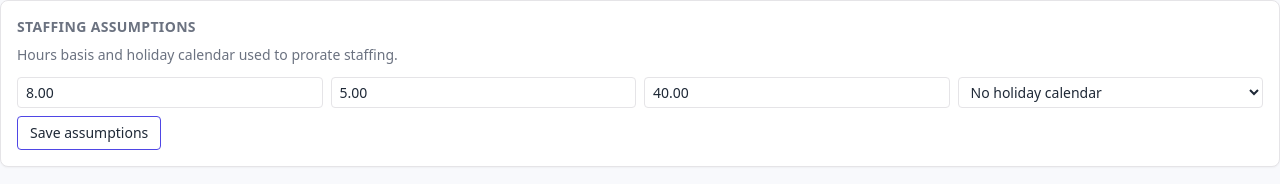
Test: Project staffing UI › surfaces a bad holiday-calendar assumption error
Click the button "Save assumptions" at (89, 133), box [17, 116, 161, 150]
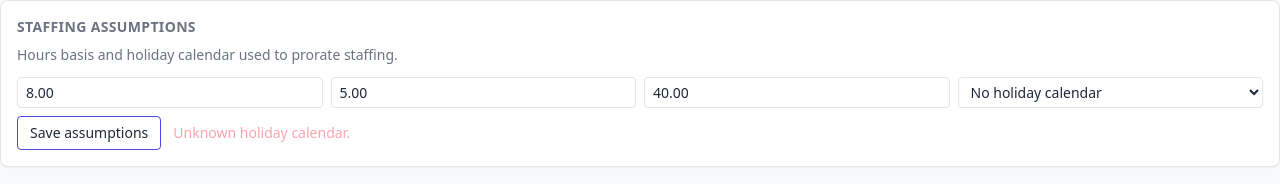
Expected: the text "Unknown holiday calendar." is shown, [173, 123, 350, 143]
